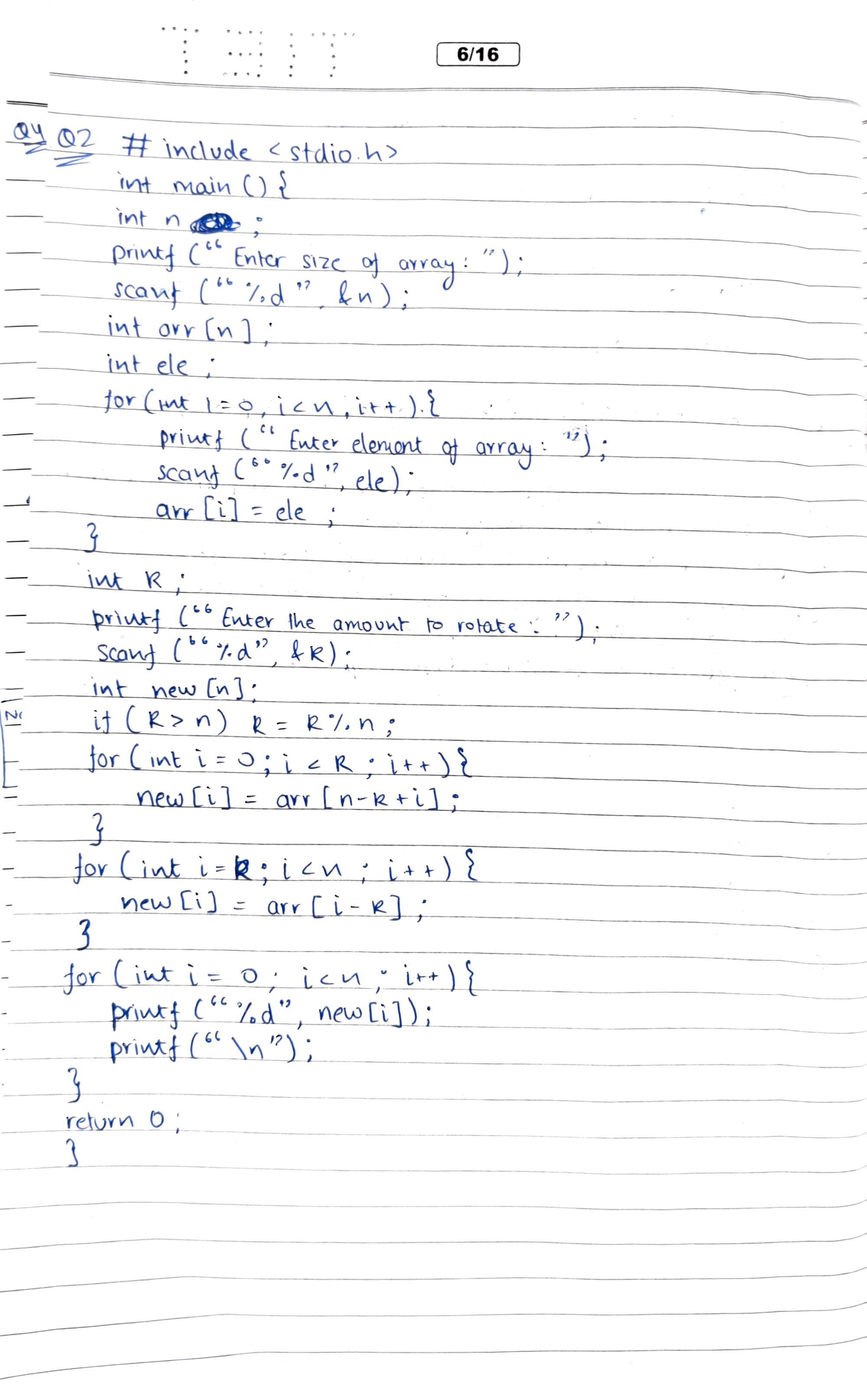cuttings: (188, 211, 242, 236)
